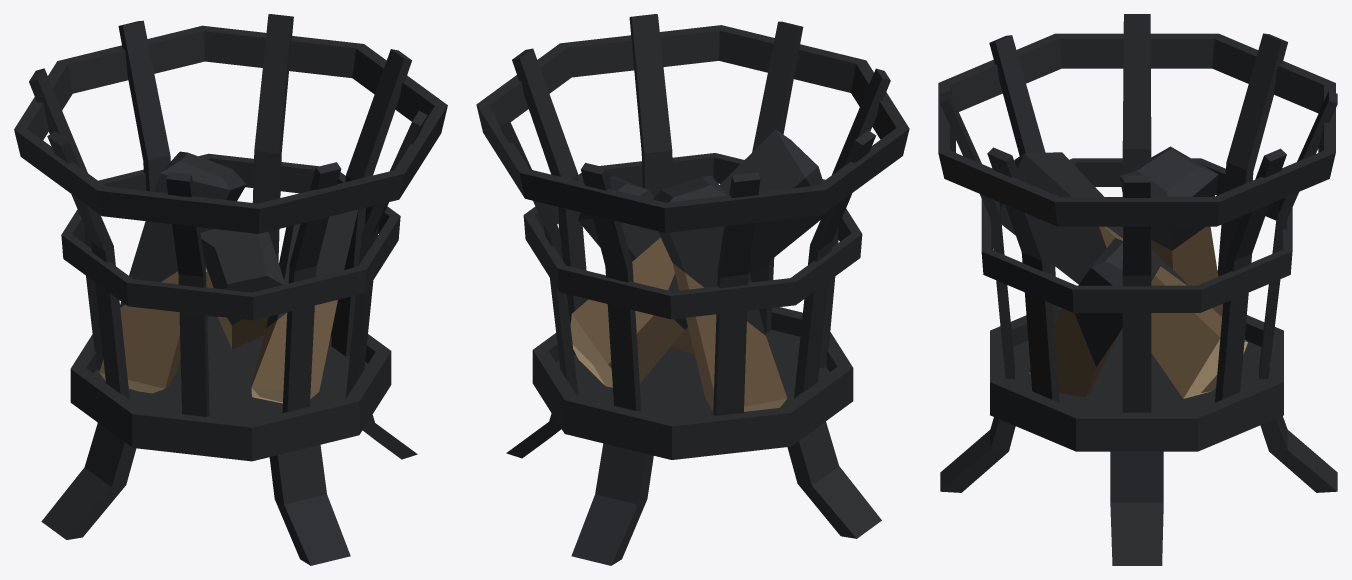
Rendered from prop_camp_brazier.gltf.
3 views of the same model, side by side, from view 1: azimuth 30°, elevation 25°; view 2: azimuth 150°, elevation 25°; view 3: azimuth 270°, elevation 25° (orthographic).
Parts seen in each view (by area): view 1: prop_camp_brazier; view 2: prop_camp_brazier; view 3: prop_camp_brazier.
Boxes of the visible parts, bbox=[...] form: prop_camp_brazier: bbox=[14, 14, 447, 565]; prop_camp_brazier: bbox=[476, 14, 909, 565]; prop_camp_brazier: bbox=[938, 14, 1337, 565].
Bounding box in the file's own units: 0.5543 × 0.5934 × 0.554.
1 material, 1 textured.
